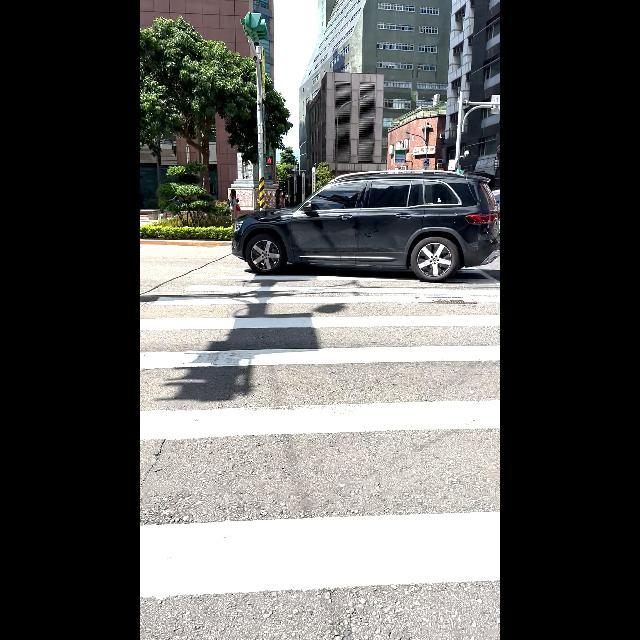sidewalk: (141, 274, 499, 594)
